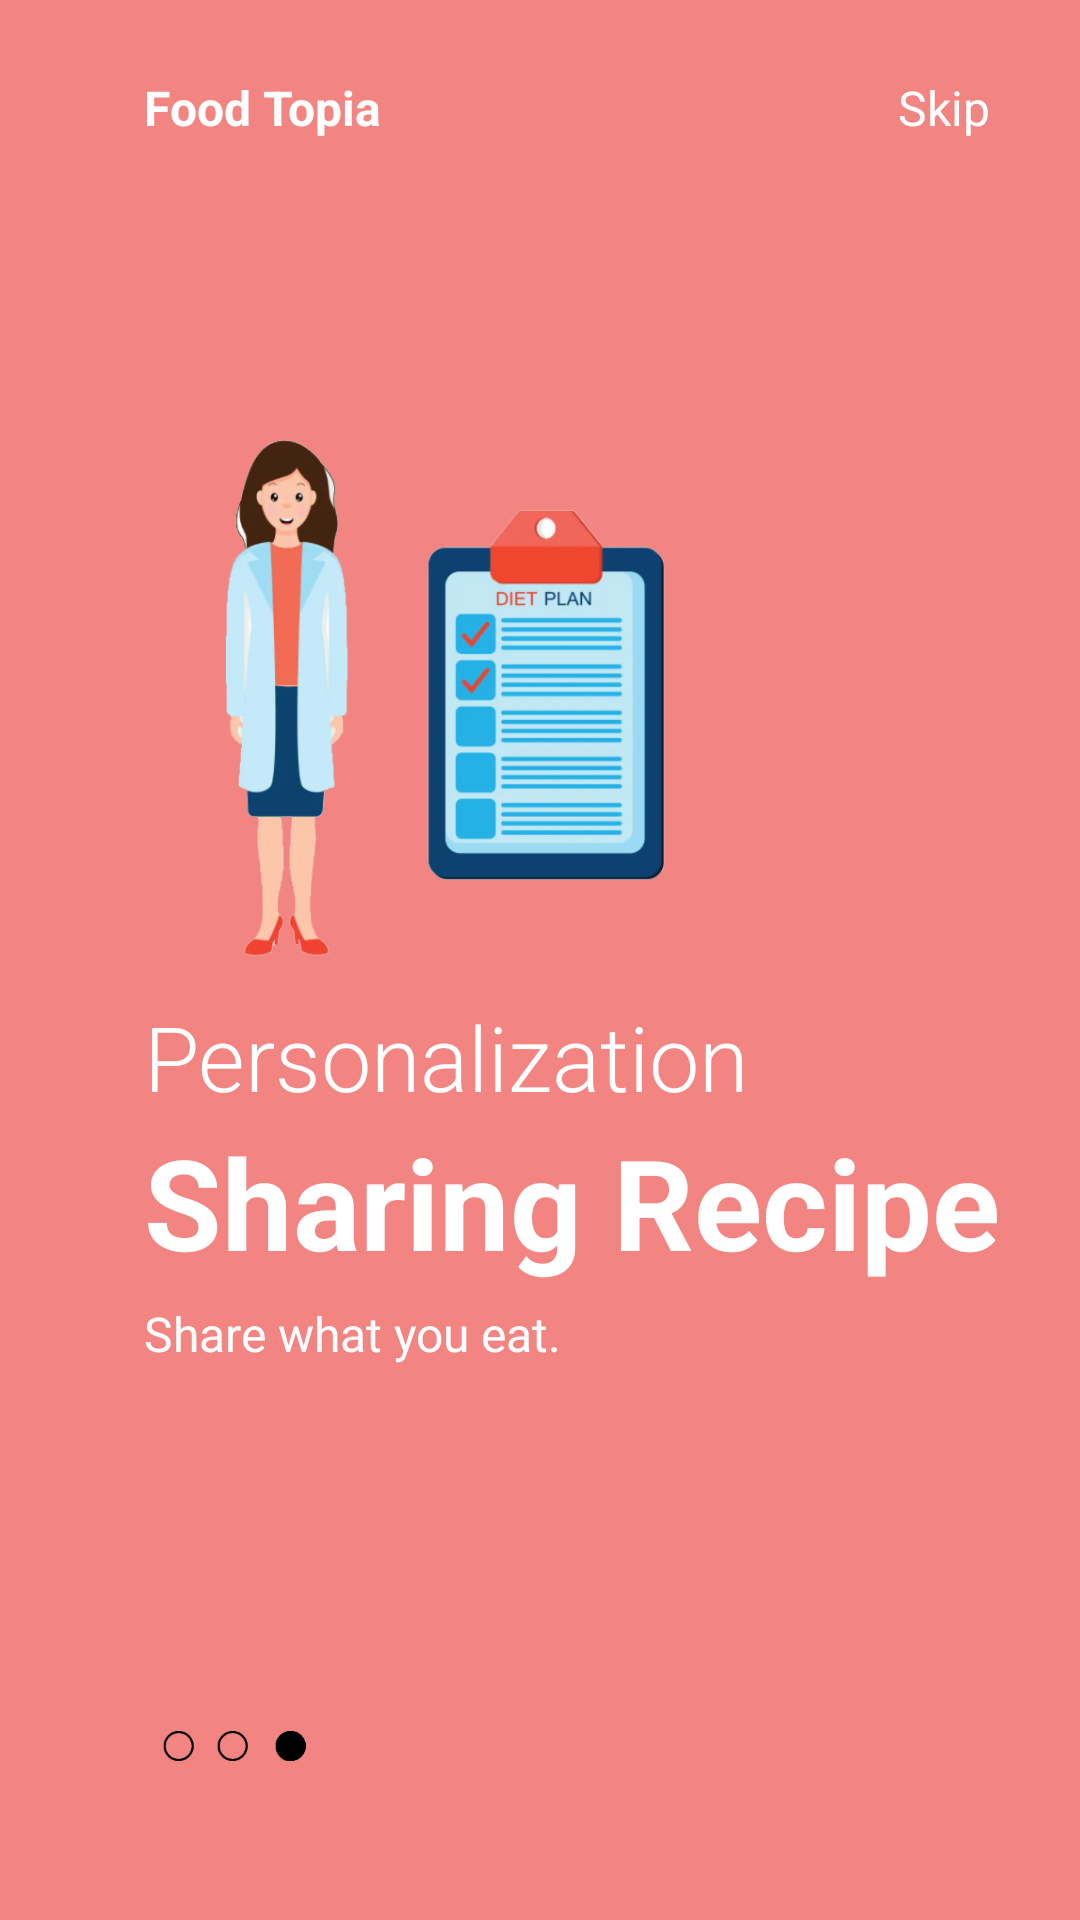

Where icons sit on this 1080px x 1920px app screen, as (x1, y1, x2, y2):
tab: (163, 1731, 306, 1761)
